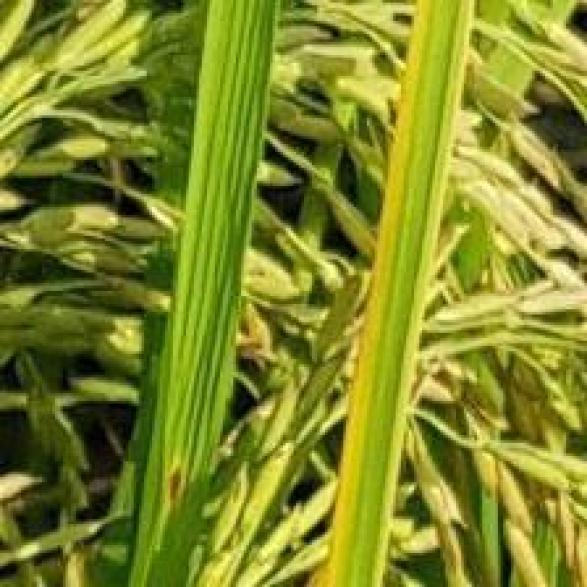Bacteria_Leaf_Blight: (338, 8, 459, 563)
